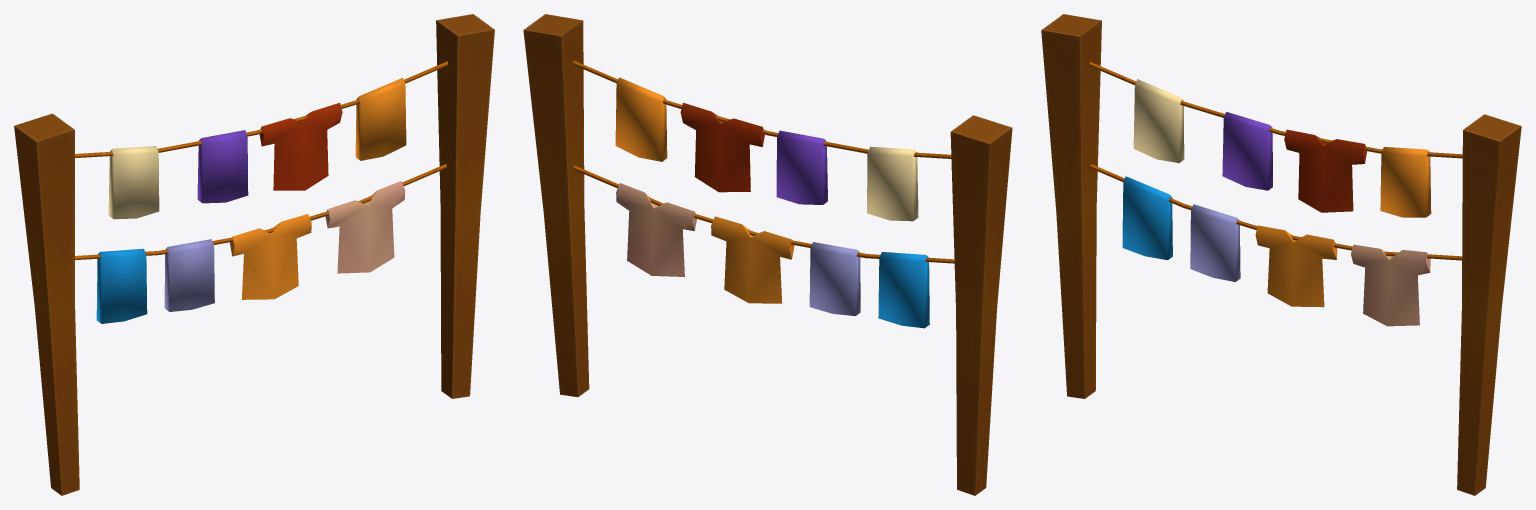
Rendered from HOS0910014.fbx.
3 renders of one model, left to right at view 1: azimuth 30°, elevation 25°; view 2: azimuth 150°, elevation 25°; view 3: azimuth 330°, elevation 25°, orthographic.
Visible parts, largest first — view 1: smHOS0910014; view 2: smHOS0910014; view 3: smHOS0910014.
Boxes of the visible parts, x1,y1,x2,y2 form: smHOS0910014: (14,14,494,495); smHOS0910014: (523,14,1012,495); smHOS0910014: (1041,14,1521,495).
Bounding box in the file's own units: 348 × 263 × 29.3.
Materials: 1 (1 with a texture image).
